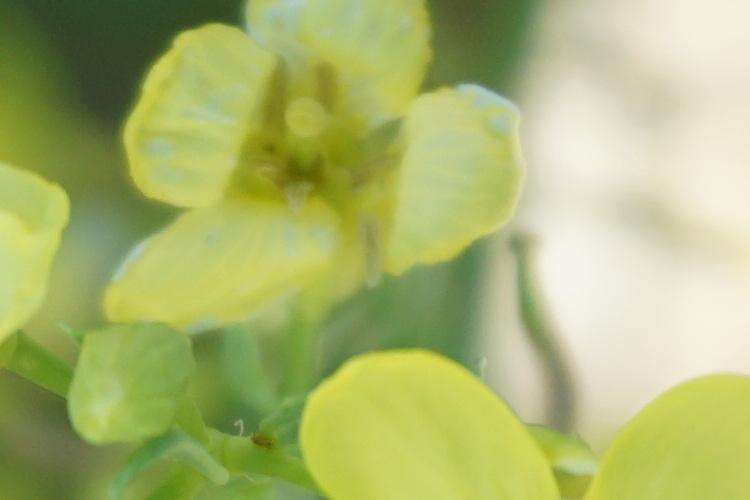bud: (67, 314, 207, 449)
yellow: (107, 10, 537, 327), (300, 346, 750, 499)
